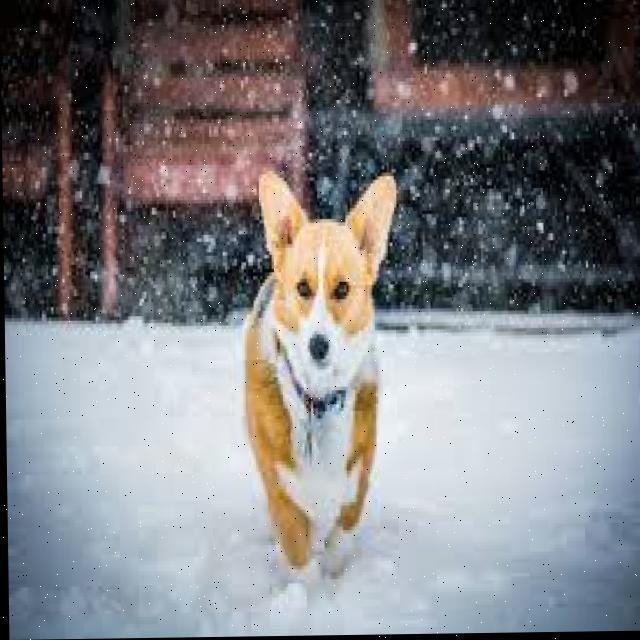CORGI: (221, 161, 403, 578)
